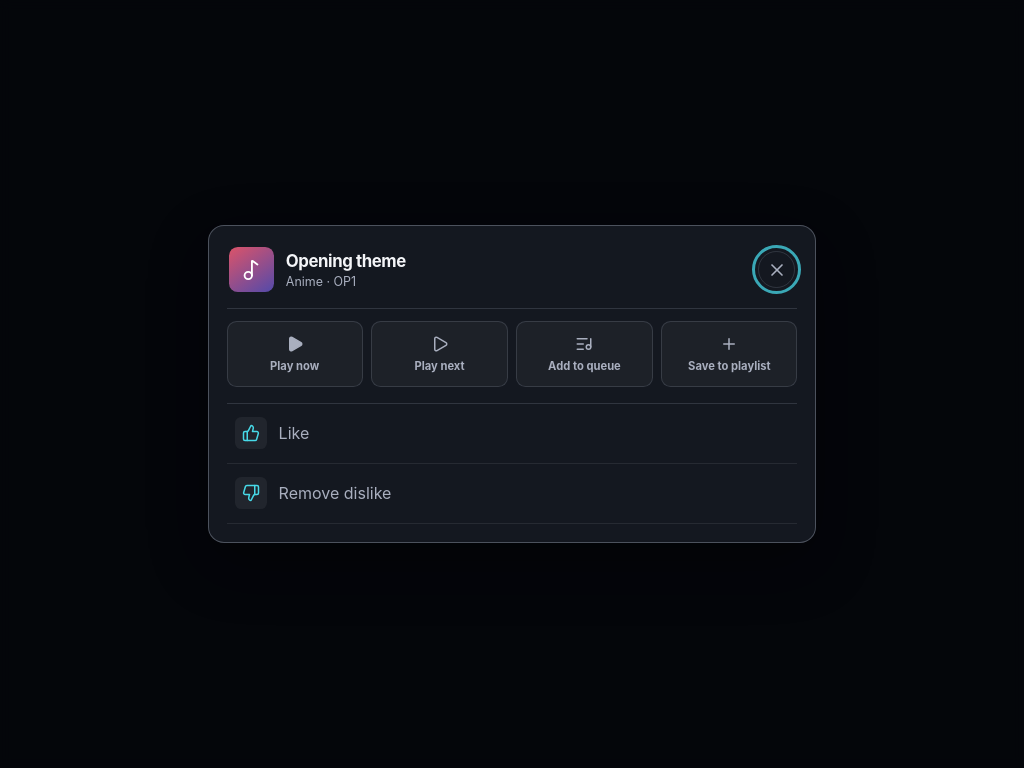
Test: ThemeActionSheet › shows sanitized failure details and supports removing an existing dislike
Click the button "Remove dislike" at (251, 493), box x1=227 y1=464 x2=797 y2=524
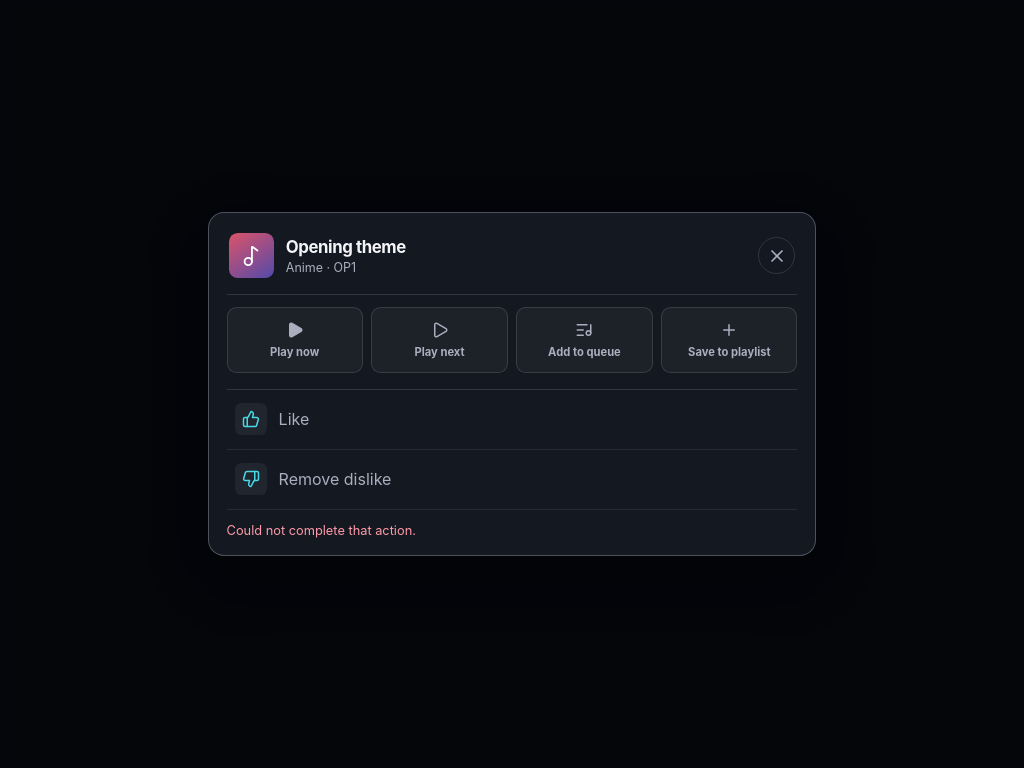
expect the text "Could not complete that action." is shown: met, box x1=227 y1=523 x2=416 y2=538
